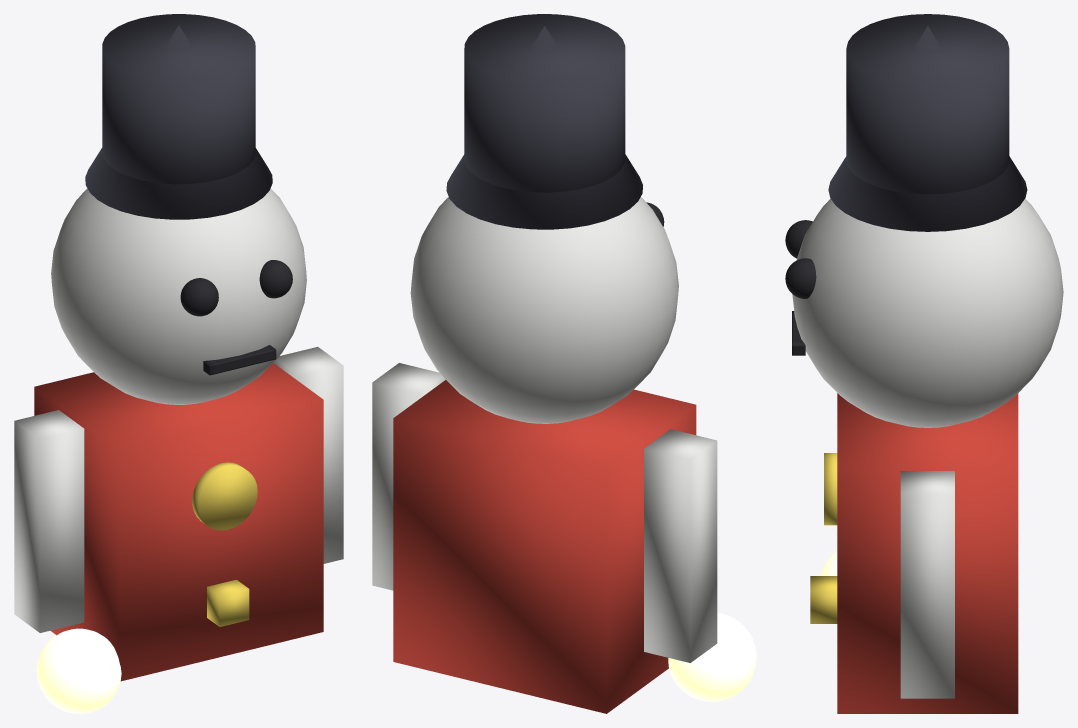
File: lantern-bot.glb
The picture shows the model from 3 angles, left to right: view 1: azimuth 30°, elevation 25°; view 2: azimuth 150°, elevation 25°; view 3: azimuth 270°, elevation 25°; orthographic projection. The views are drawn at different scales.
Visible parts, largest first — view 1: Body, Head, Hat_Top, Arm_L, Hat_Cone, Arm, Lantern, ChestButton, LampSwitch, Eye_L, Mouth, Eye_R; view 2: Body, Head, Hat_Top, Arm_L, Hat_Cone, Arm, Lantern; view 3: Head, Body, Hat_Top, Arm, Hat_Cone, LampSwitch, ChestButton, Eye_R, Eye_L.
Part boxes in pixels (x1=…): Body: x1=34, y1=363, x2=323, y2=681; Head: x1=51, y1=188, x2=306, y2=404; Hat_Top: x1=102, y1=14, x2=255, y2=184; Arm_L: x1=14, y1=410, x2=84, y2=632; Hat_Cone: x1=85, y1=25, x2=272, y2=219; Arm: x1=273, y1=346, x2=343, y2=563; Lantern: x1=36, y1=628, x2=121, y2=713; ChestButton: x1=192, y1=462, x2=257, y2=530; LampSwitch: x1=207, y1=579, x2=249, y2=626; Eye_L: x1=180, y1=278, x2=218, y2=316; Mouth: x1=203, y1=345, x2=276, y2=375; Eye_R: x1=259, y1=260, x2=292, y2=298; Body: x1=393, y1=380, x2=696, y2=713; Head: x1=410, y1=197, x2=678, y2=423; Hat_Top: x1=464, y1=14, x2=625, y2=192; Arm_L: x1=644, y1=429, x2=717, y2=662; Hat_Cone: x1=446, y1=26, x2=642, y2=229; Arm: x1=372, y1=363, x2=445, y2=590; Lantern: x1=668, y1=613, x2=756, y2=701; Head: x1=792, y1=199, x2=1063, y2=427; Body: x1=837, y1=393, x2=1018, y2=713; Hat_Top: x1=846, y1=14, x2=1009, y2=194; Arm: x1=900, y1=471, x2=954, y2=698; Hat_Cone: x1=828, y1=26, x2=1027, y2=231; LampSwitch: x1=810, y1=576, x2=837, y2=623; ChestButton: x1=824, y1=453, x2=837, y2=525; Eye_R: x1=785, y1=258, x2=816, y2=298; Eye_L: x1=785, y1=220, x2=812, y2=258.
Size of the model in its own units: 0.86 by 1.63 by 0.615.
